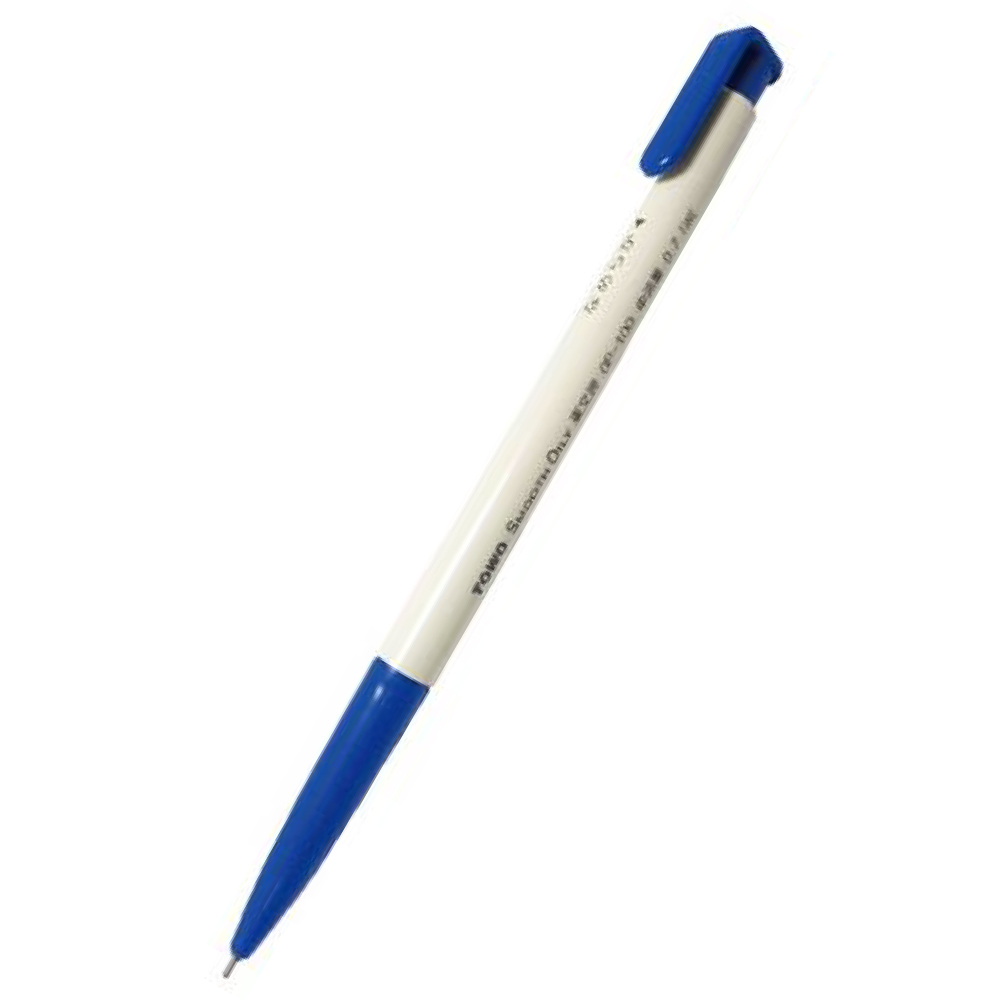pen: (180, 15, 790, 992)
